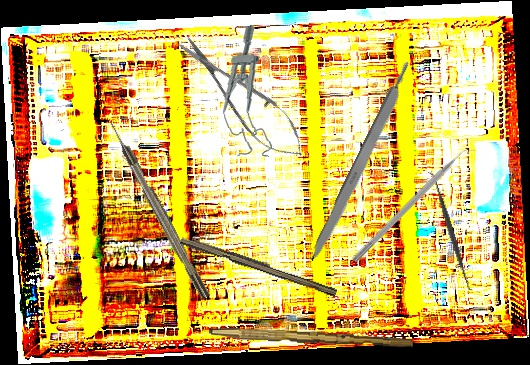Chopper: (351, 142, 479, 269)
Hook Surgical: (104, 115, 211, 301)
Micro Scissor: (167, 24, 317, 171)
Scalpel Handle: (307, 60, 417, 265), (179, 233, 339, 298), (208, 327, 414, 349)
Spatula Surgical: (425, 169, 476, 293)
Speculum: (217, 24, 273, 160)
